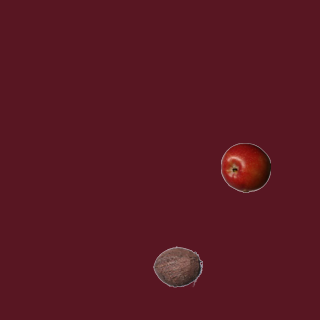Apple Braeburn: (220, 142, 270, 192)
Cocos: (152, 241, 202, 291)
